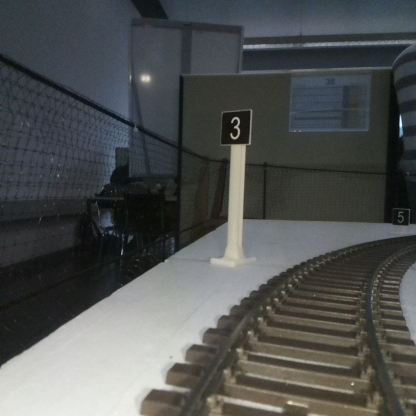black-info-3: (220, 109, 251, 265)
white-stop-5: (393, 209, 409, 231)
